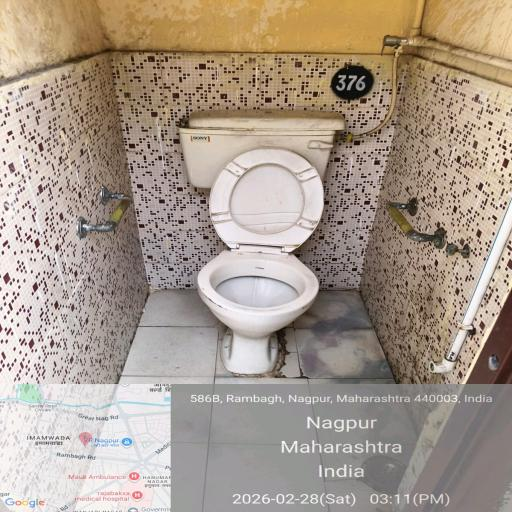clean_floor: (0, 118, 192, 380), (337, 122, 512, 274)
partial_dirty_floor: (0, 0, 507, 104), (314, 277, 449, 373)
partial_dirty_western: (214, 156, 304, 370)
